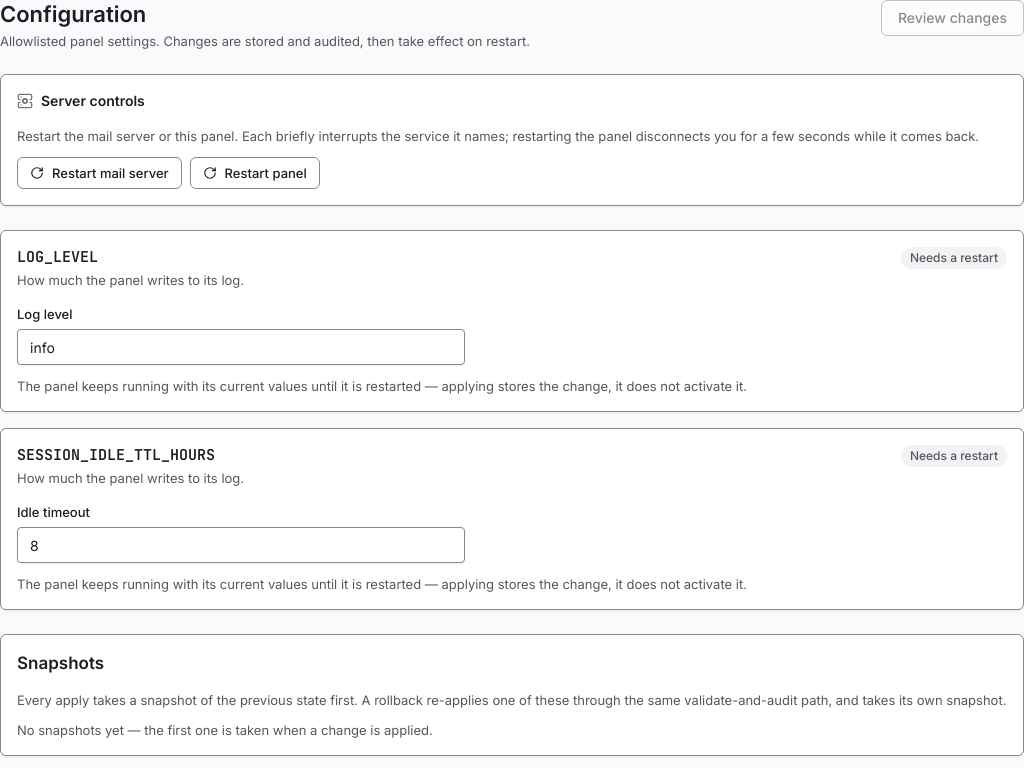
it: ConfigPage — nothing is sent while typing (FEATURE_MATRIX.md §28-29) › sends exactly the changed keys to validate, and confirms the server’s diff
This screenshot has width=1024, height=768.
Replace the text in the field labelled "Log level" with "debug" at coordinates (241, 347), box [17,329,465,365]
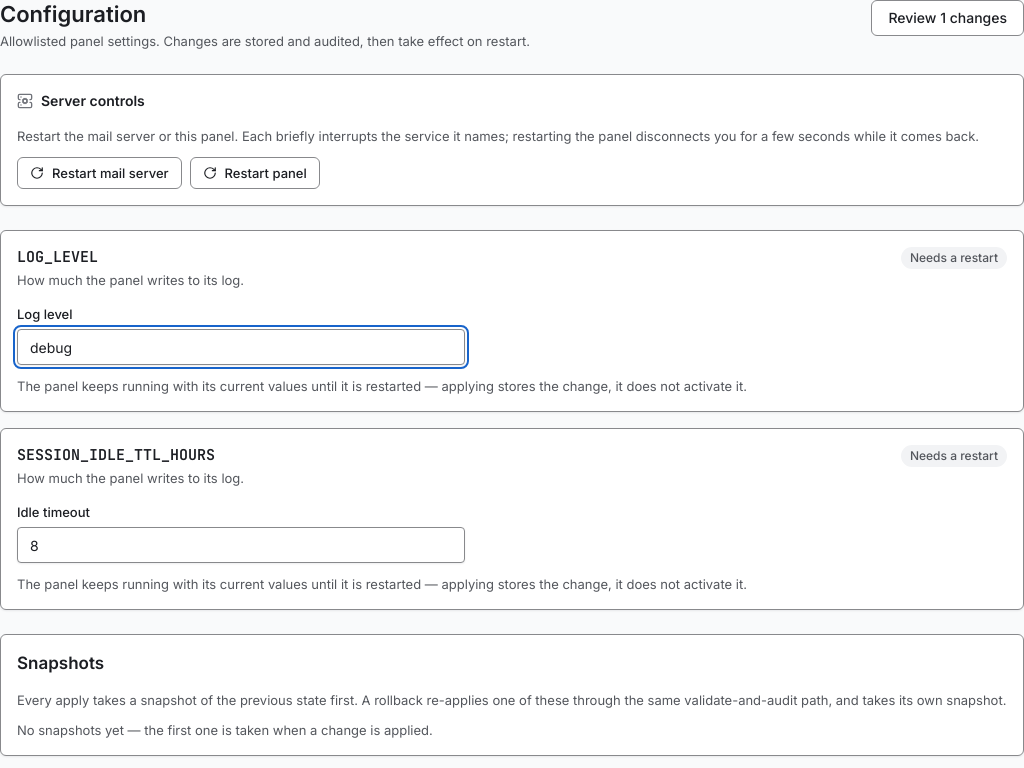
Click the button "Review 1 changes".
click(948, 18)  # box [871,0,1023,36]
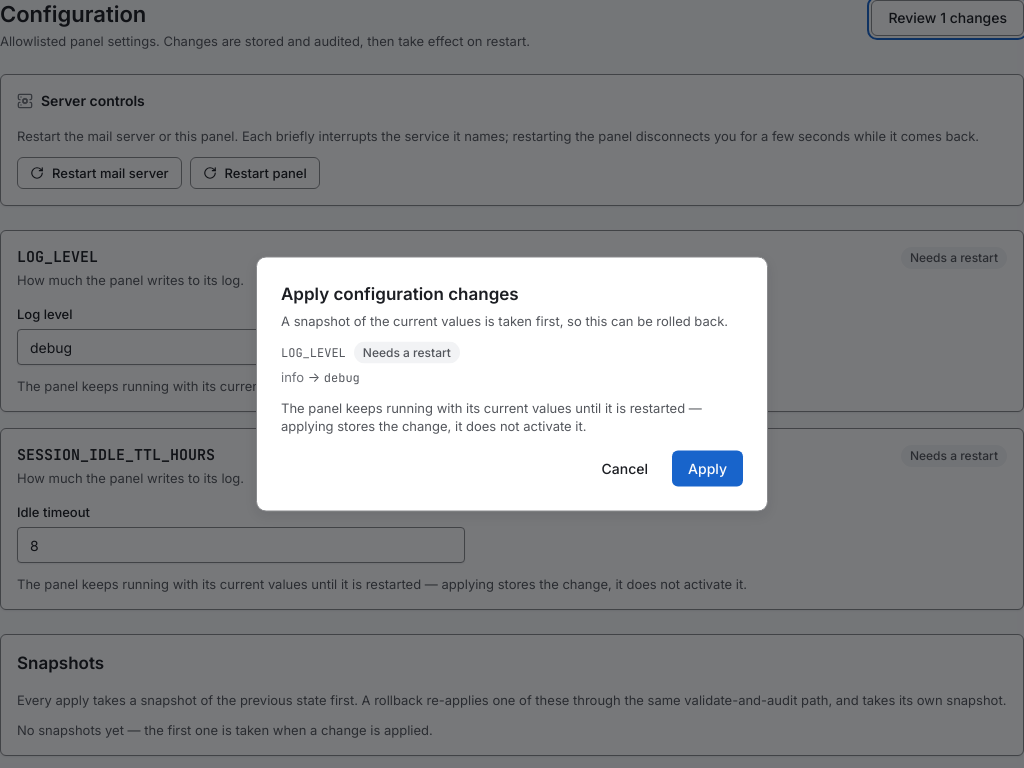
Expected: the text "debug" is shown, [324,370,360,386]
